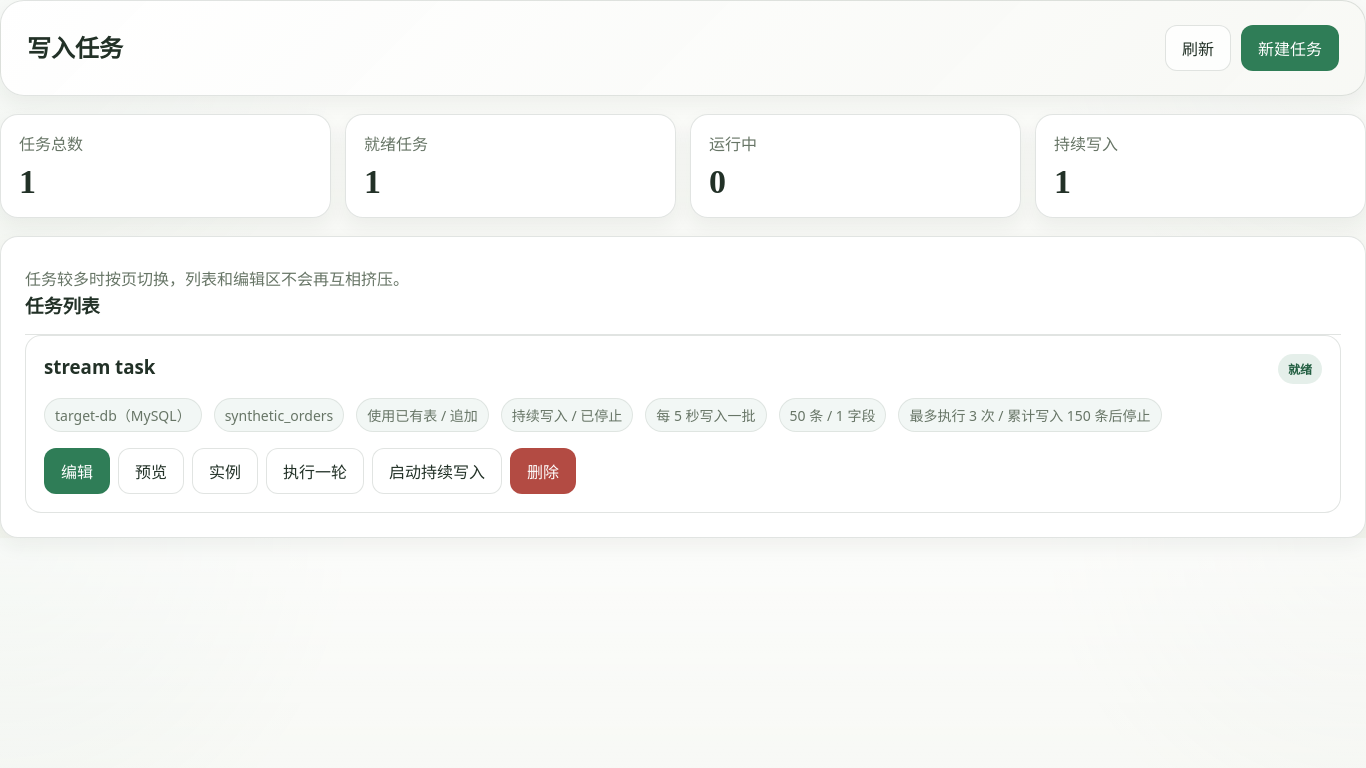
Test: JobsView › starts a continuous write task and refreshes the runtime state
The image size is (1366, 768).
Click the button "启动持续写入": (437, 471) top-left (372, 448), bottom-right (502, 494)
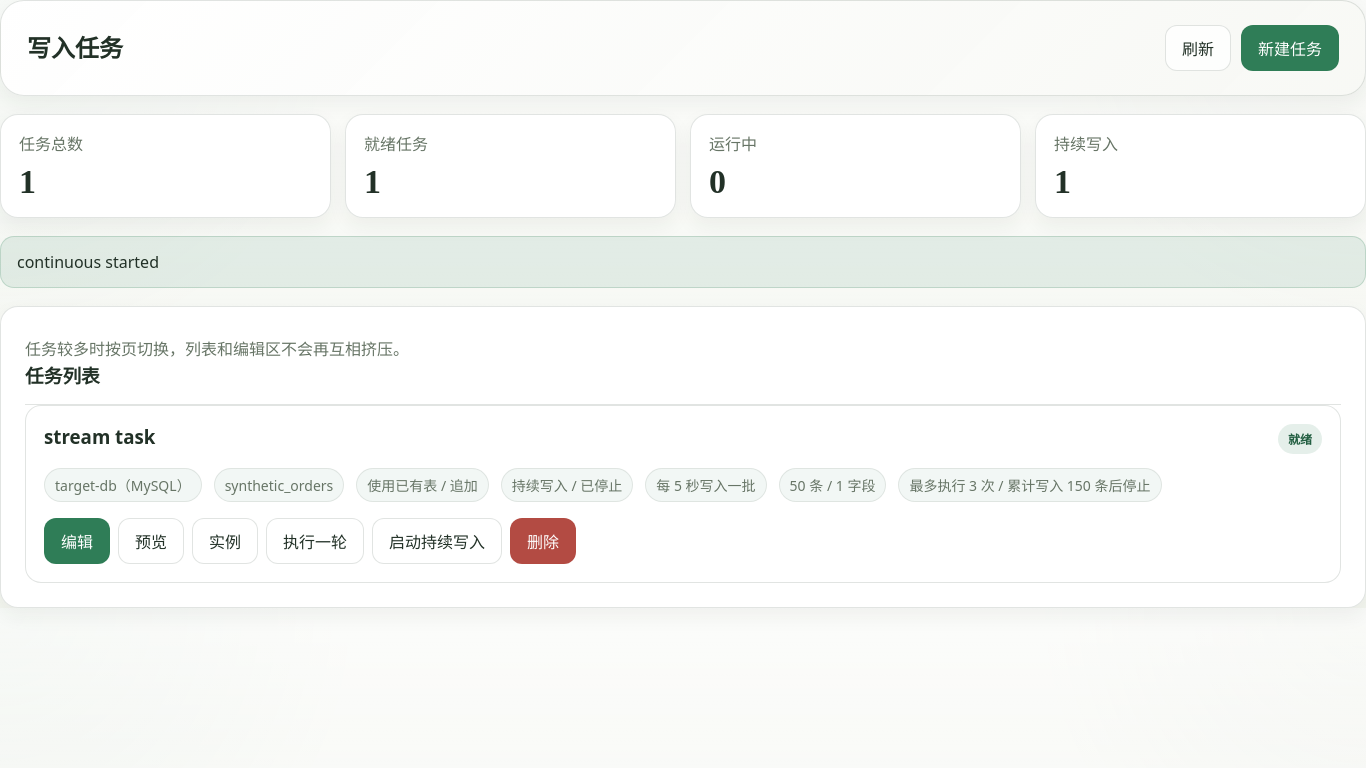
expect the text "运行中" is shown: met, box top-left (709, 133), bottom-right (757, 155)
expect the text "continuous started" is shown: met, box top-left (0, 236), bottom-right (1365, 288)
